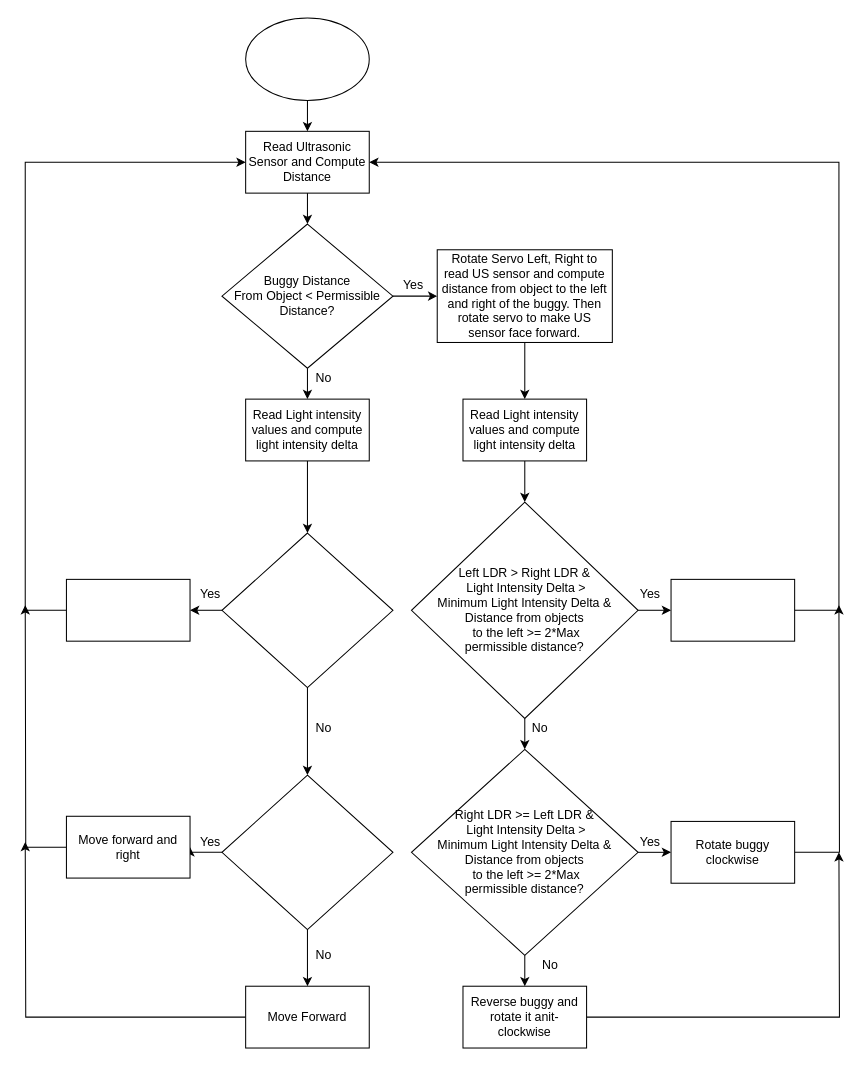
Image size: 866x1066. Some labels were removed from this diagram. Each missing label, with the centre of its shape:
"Left LDR < Right LDR & Light Intensity Delta > Minimum Light Intensity Delta?" goes at (307,852).
"Left LDR > Right LDR & Light Intensity Delta > Minimum Light Intensity Delta?" goes at (307,610).
"Move forward and left" goes at (127,609).
"Rotate buggy anit-clockwise" goes at (732,609).
"Start" goes at (307,58).
